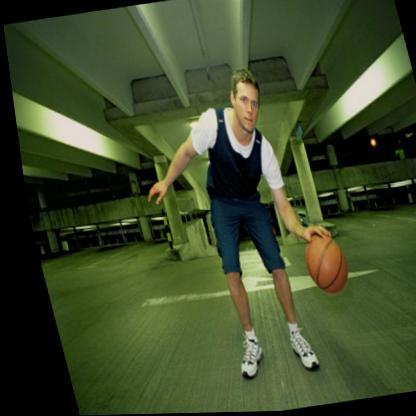basketball: (291, 233, 345, 296)
